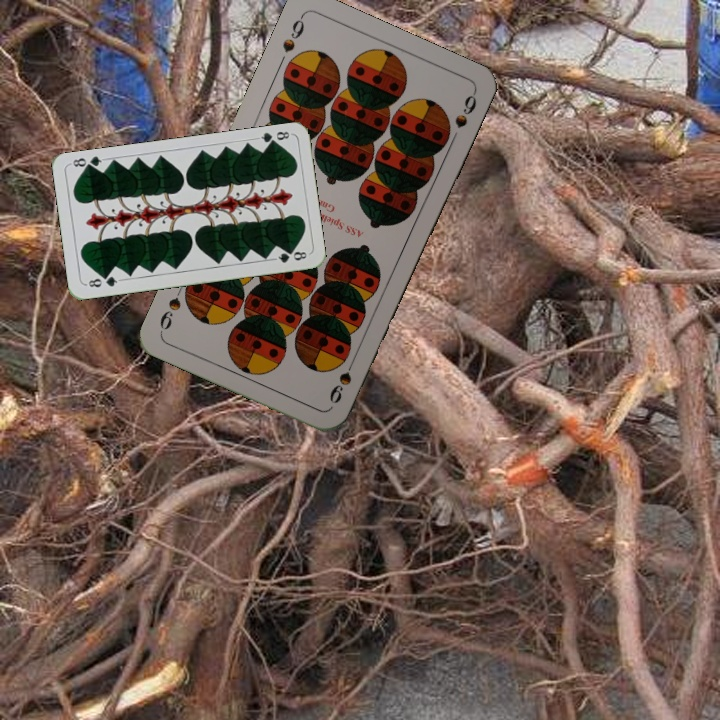G8: (253, 127, 294, 149), (82, 272, 123, 290)
S9: (325, 353, 359, 406), (278, 11, 307, 56)
